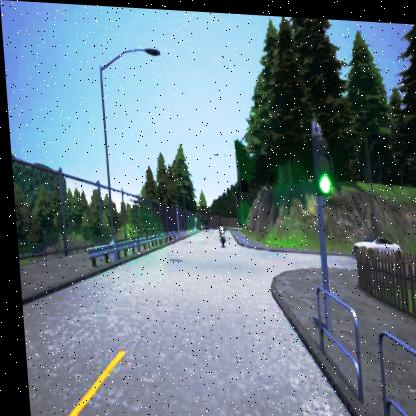motobike: (215, 219, 223, 246)
vehicle: (347, 230, 400, 255)
